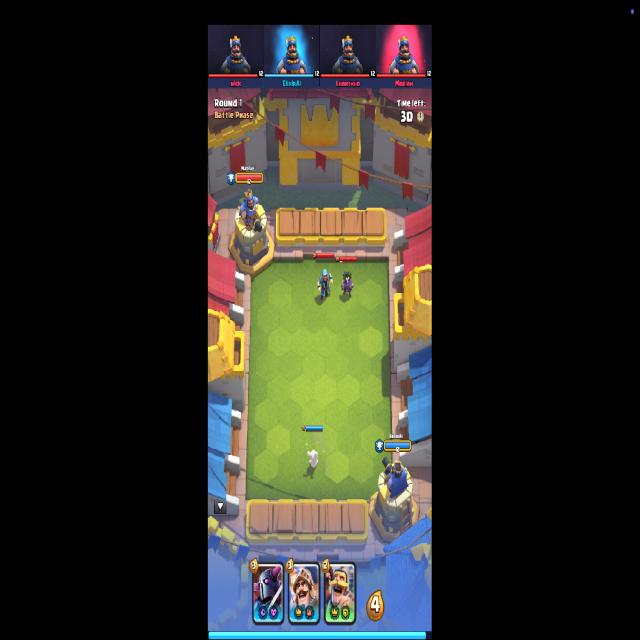card_knight: (324, 561, 357, 625)
card_pekka: (252, 563, 285, 625)
card_prince: (288, 561, 320, 625)
e_wiz: (341, 271, 354, 299)
wizard: (318, 271, 333, 301)
